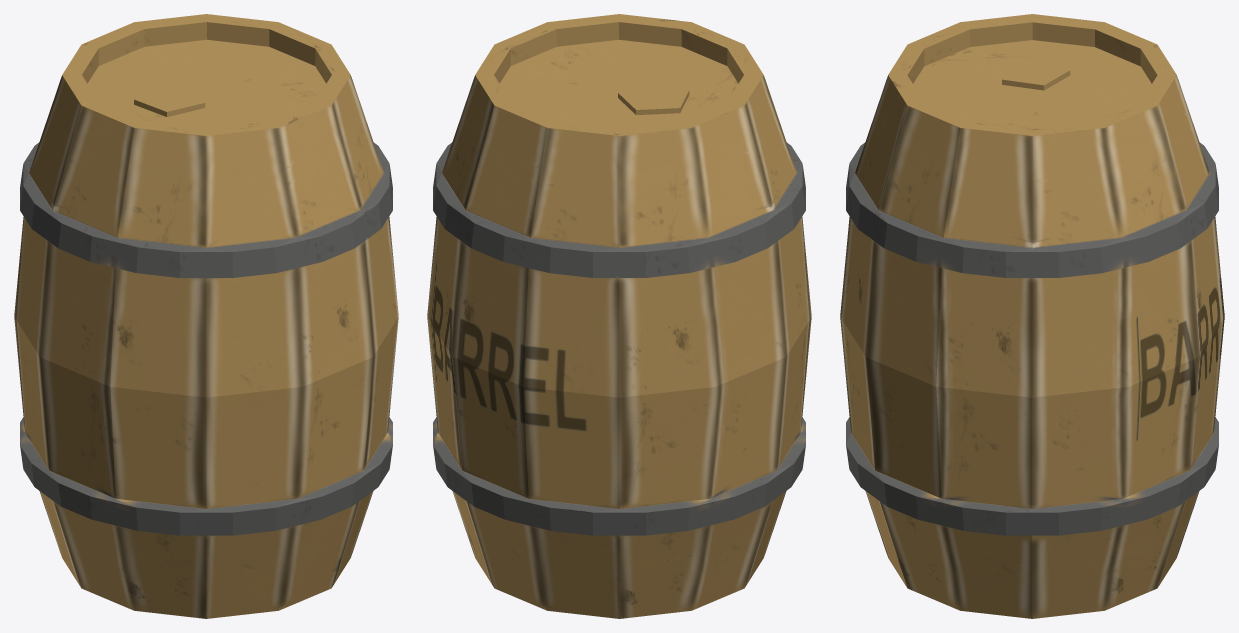
The model's file is Barrel_LOD.fbx.
3 views of the same model, side by side, from view 1: azimuth 30°, elevation 25°; view 2: azimuth 150°, elevation 25°; view 3: azimuth 270°, elevation 25° (orthographic).
Visible parts, largest first — view 1: Cylinder_LOD0; view 2: Cylinder_LOD0; view 3: Cylinder_LOD0.
Boxes of the visible parts, bbox=[...] form: Cylinder_LOD0: bbox=[14, 14, 398, 618]; Cylinder_LOD0: bbox=[427, 14, 811, 618]; Cylinder_LOD0: bbox=[840, 14, 1224, 618].
Size of what is drawn, in the model's own units: 56.15 by 77.8 by 56.15.
Materials: 1 (1 with a texture image).
